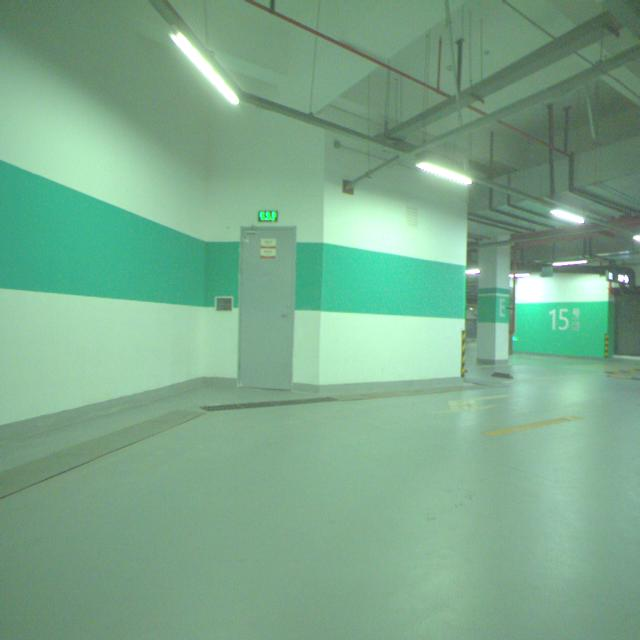pillar: (476, 246, 510, 364)
